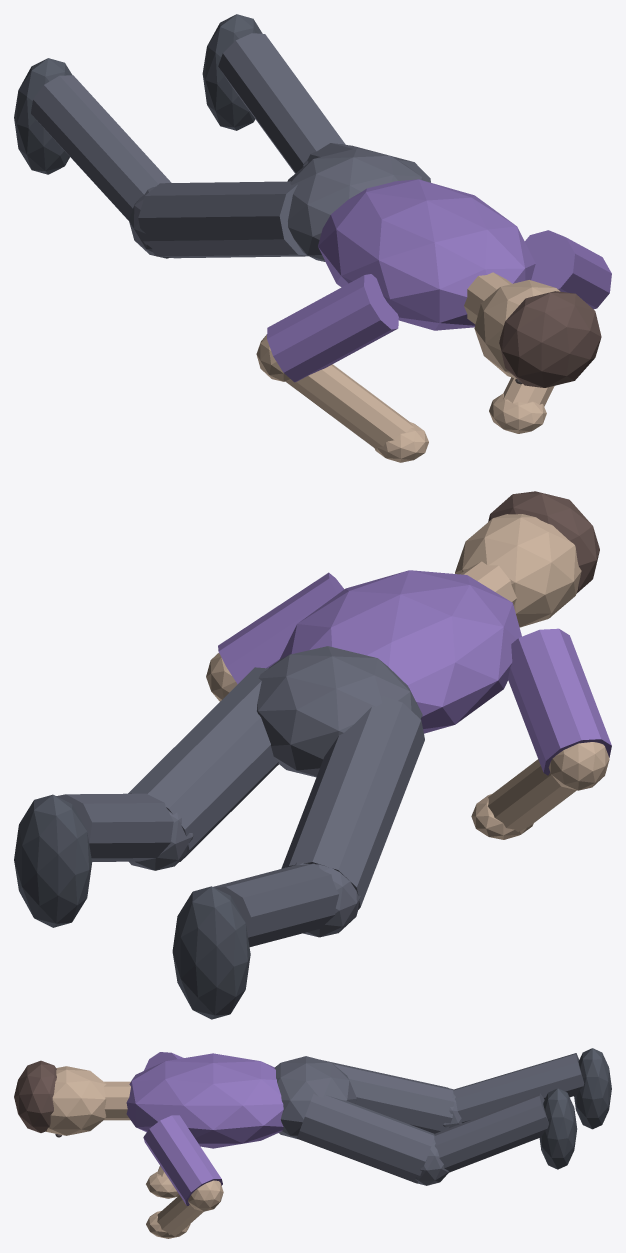
The picture shows the model from 3 angles, top to bottom: view 1: azimuth 30°, elevation 25°; view 2: azimuth 150°, elevation 25°; view 3: azimuth 270°, elevation 25°; orthographic projection. The views are drawn at different scales.
Parts seen in each view (by area): view 1: world; view 2: world; view 3: world.
Part boxes in pixels (left/top/right/bottom): world: left=14, top=14, right=611, bottom=462; world: left=14, top=491, right=611, bottom=1019; world: left=14, top=1048, right=611, bottom=1238.
Bounding box in the file's own units: 0.93 × 0.565 × 2.
